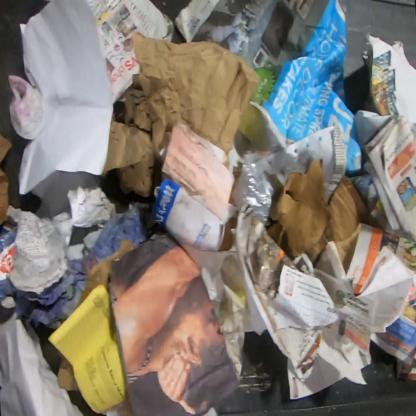cardboard: (264, 158, 385, 275), (75, 239, 134, 311), (0, 227, 19, 306), (0, 134, 14, 226), (57, 355, 79, 391)
rigid_plastic: (232, 151, 275, 225)
soft_plastic: (7, 74, 46, 140)
